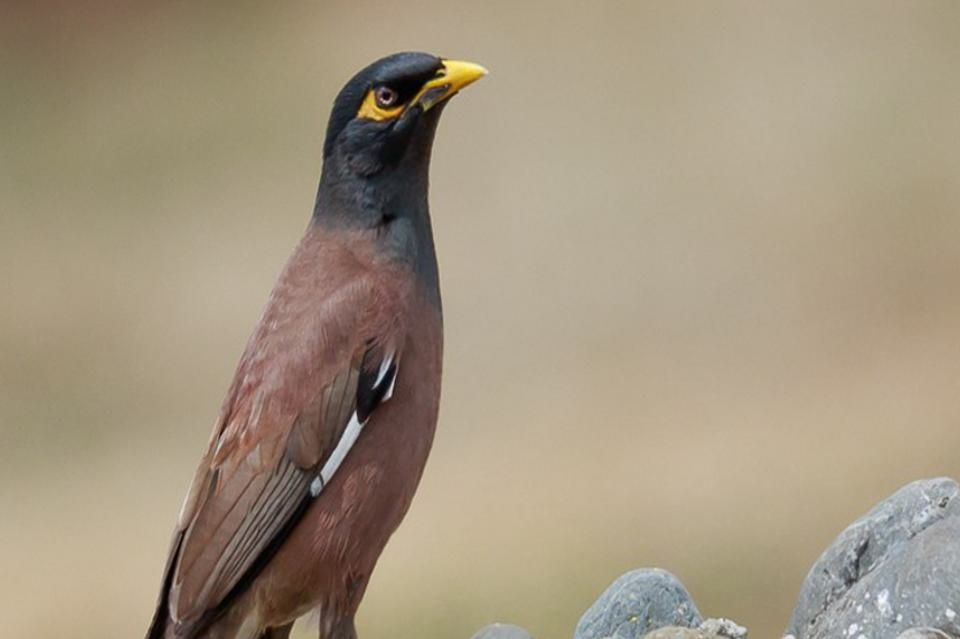myna: (46, 48, 518, 639)
